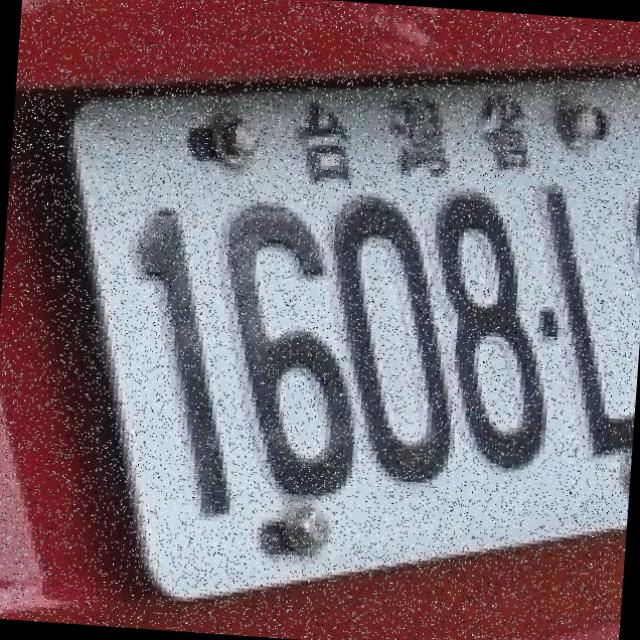LicensePlate: (0, 8, 640, 638)
